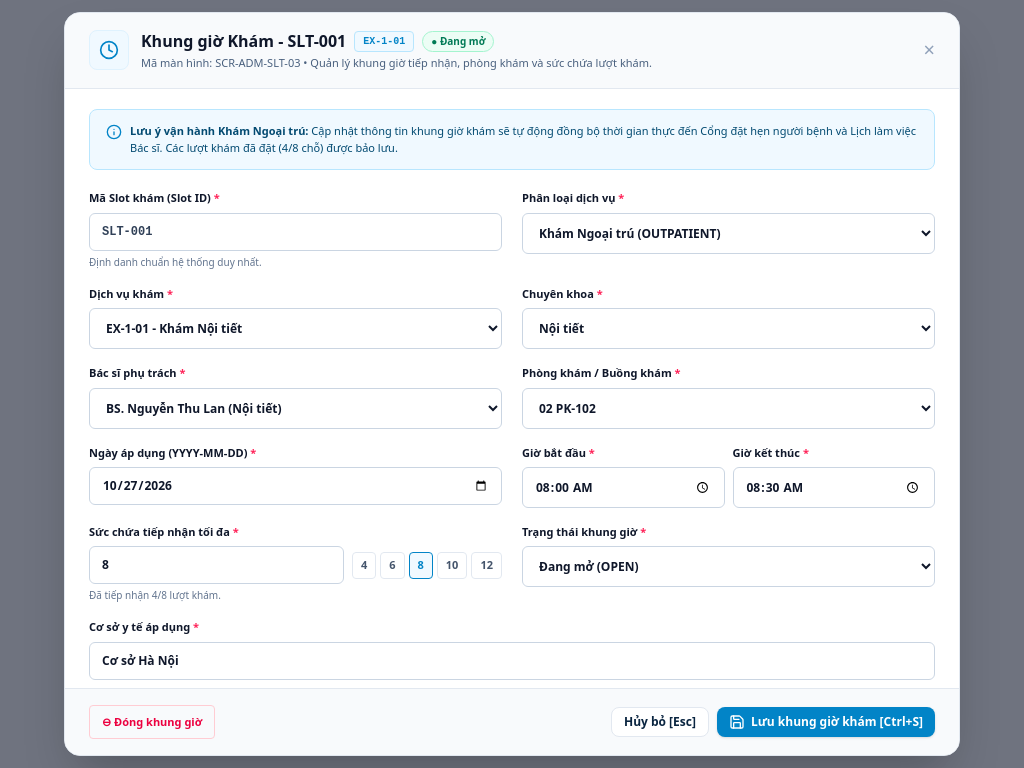
Test: SlotEditModal (SCR-ADM-SLT-03) › displays validation error when end time is before or equal to start time
The width and height of the screenshot is (1024, 768).
Replace the text in the time field labelled "Giờ kết thúc *" with "07:30" at (834, 488), box [732,467,935,508]
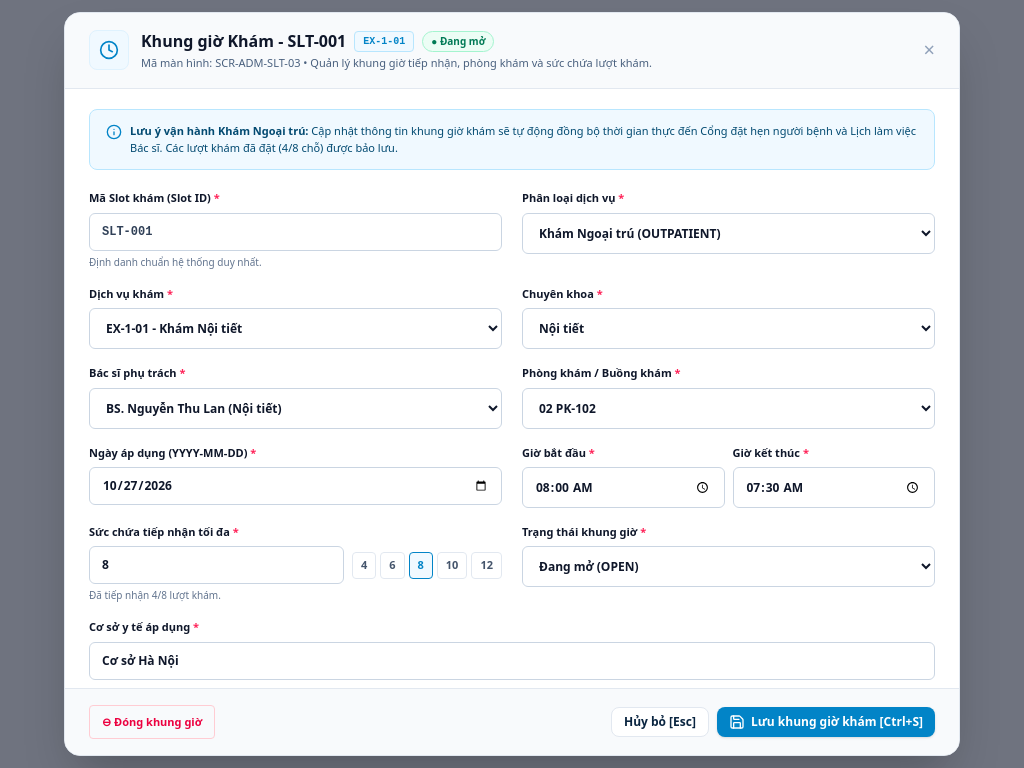
Click the button "Lưu khung giờ khám [Ctrl+S]".
click(826, 722)  # box [717,707,935,737]
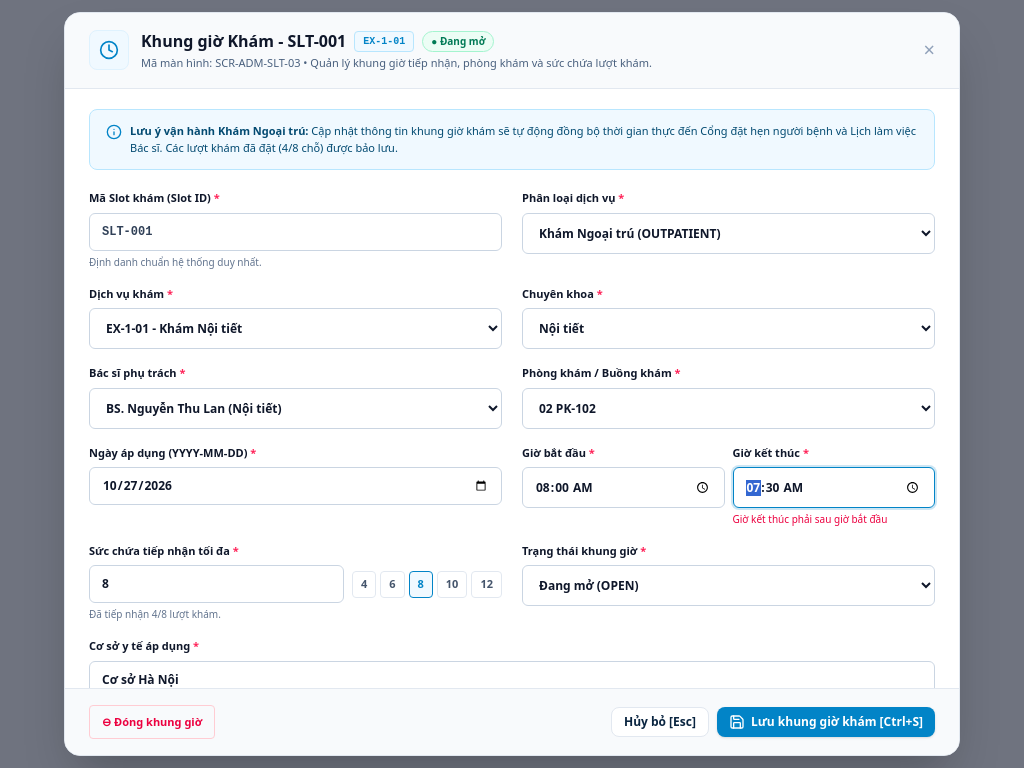
Check: the text "Giờ kết thúc phải sau giờ bắt đầu" is shown, box [732,512,887,526]
